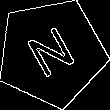N_SE: (22, 21, 81, 84)
